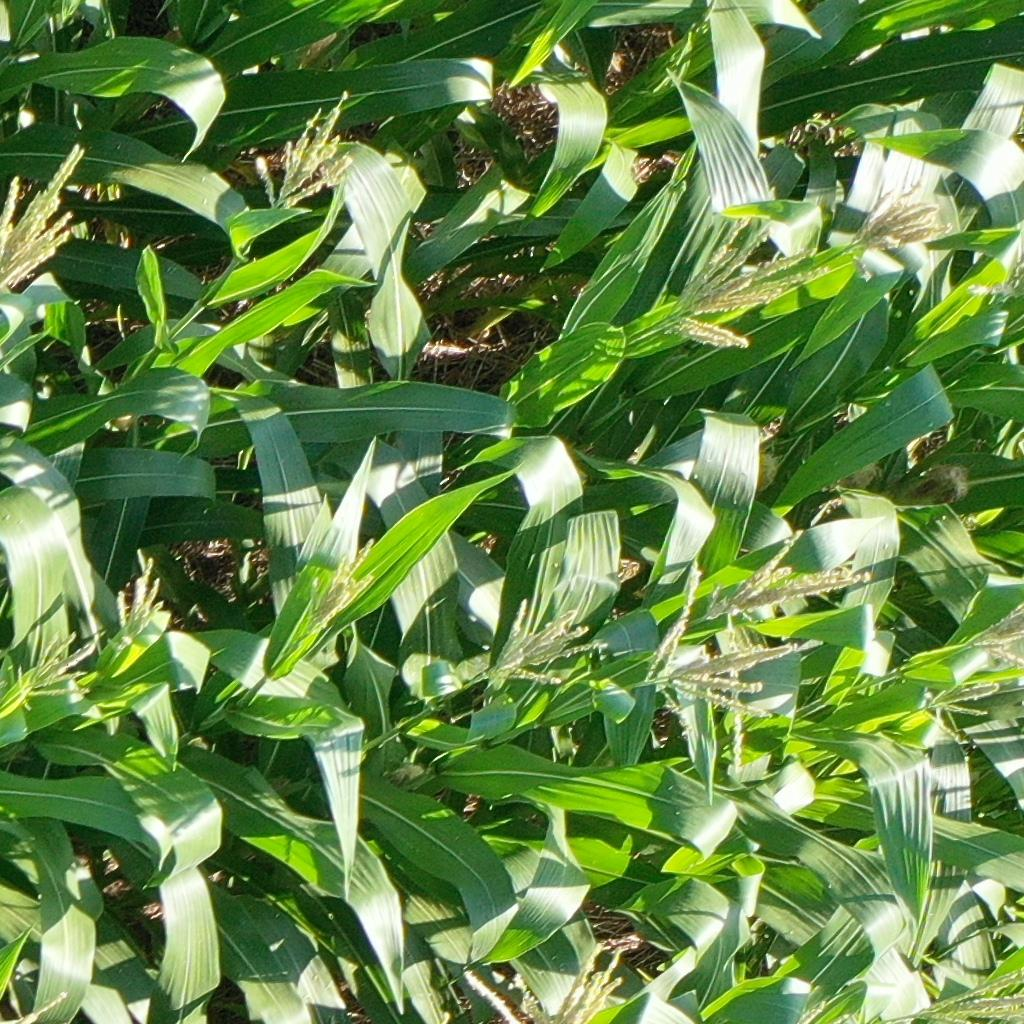Tassel: (637, 560, 802, 782), (655, 208, 836, 355), (698, 511, 878, 624), (459, 934, 629, 1024), (252, 92, 361, 220), (1, 140, 91, 293), (476, 594, 611, 689), (848, 179, 956, 279), (295, 536, 382, 645), (896, 962, 1024, 1024), (9, 628, 98, 716), (103, 556, 170, 656), (912, 676, 1005, 741), (961, 600, 1024, 670)
